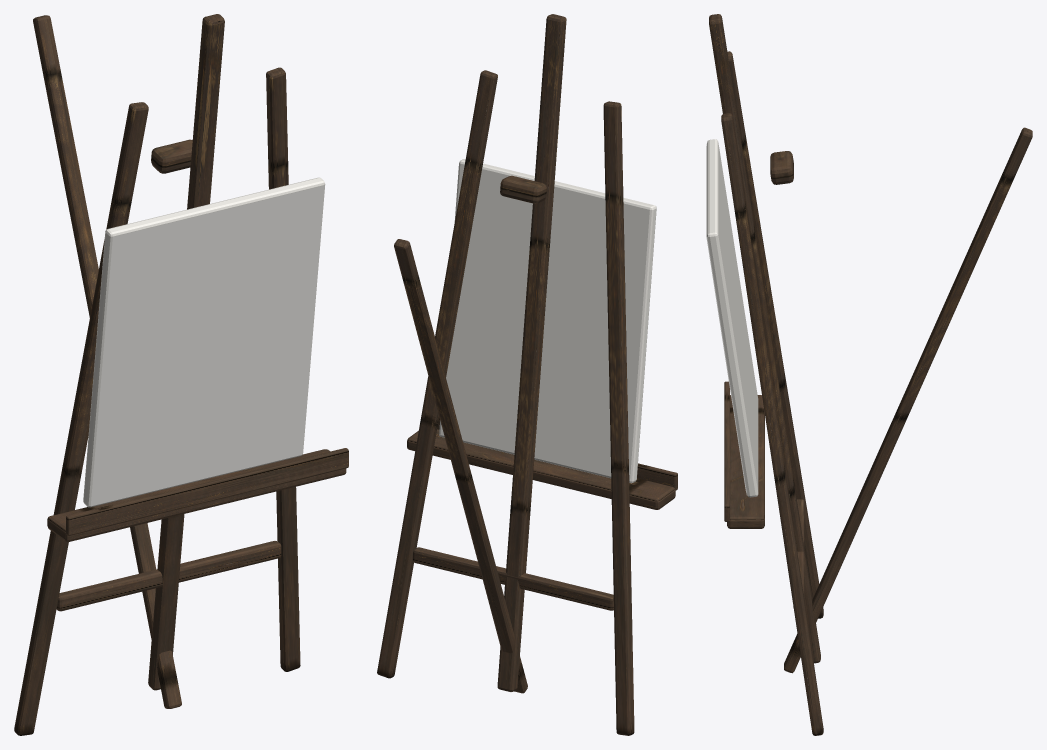
Rendered from easel.glb.
3 renders of one model, left to right at view 1: azimuth 30°, elevation 25°; view 2: azimuth 150°, elevation 25°; view 3: azimuth 270°, elevation 25°, orthographic. The views are drawn at different scales.
Visible parts, largest first — view 1: canvas_face, front leg, mast, back leg, front leg.001, ledge lip, canvas, cross bar, ledge, clamp; view 2: canvas, mast, front leg, front leg.001, back leg, ledge, cross bar, clamp, ledge lip; view 3: canvas, front leg.001, back leg, mast, front leg, ledge, ledge lip, clamp.
Boxes of the visible parts, x1,y1,x2,y2 form: canvas_face: [90, 185, 324, 506]; front leg: [14, 102, 148, 735]; mast: [148, 14, 224, 690]; back leg: [33, 15, 181, 708]; front leg.001: [266, 67, 300, 671]; ledge lip: [66, 448, 348, 535]; canvas: [83, 177, 325, 507]; cross bar: [56, 541, 281, 611]; ledge: [47, 449, 346, 541]; clamp: [151, 139, 192, 173]; canvas: [439, 159, 656, 483]; mast: [497, 14, 566, 691]; front leg: [603, 101, 634, 735]; front leg.001: [377, 70, 497, 678]; back leg: [394, 239, 527, 693]; ledge: [407, 429, 675, 509]; cross bar: [413, 547, 613, 610]; clamp: [500, 175, 546, 203]; ledge lip: [437, 417, 677, 490]; canvas: [707, 139, 758, 497]; front leg.001: [721, 113, 823, 735]; back leg: [784, 127, 1032, 673]; mast: [709, 14, 820, 663]; front leg: [727, 51, 823, 618]; ledge: [727, 395, 764, 528]; ledge lip: [724, 381, 729, 521]; clamp: [770, 151, 793, 184].
Bounding box in the file's own units: 0.7846 × 1.93 × 0.8645.
3 materials, 1 textured.
